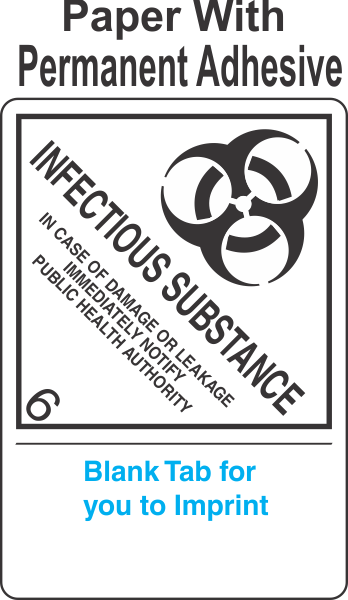InfectiousSubstance: (1, 97, 348, 429)
